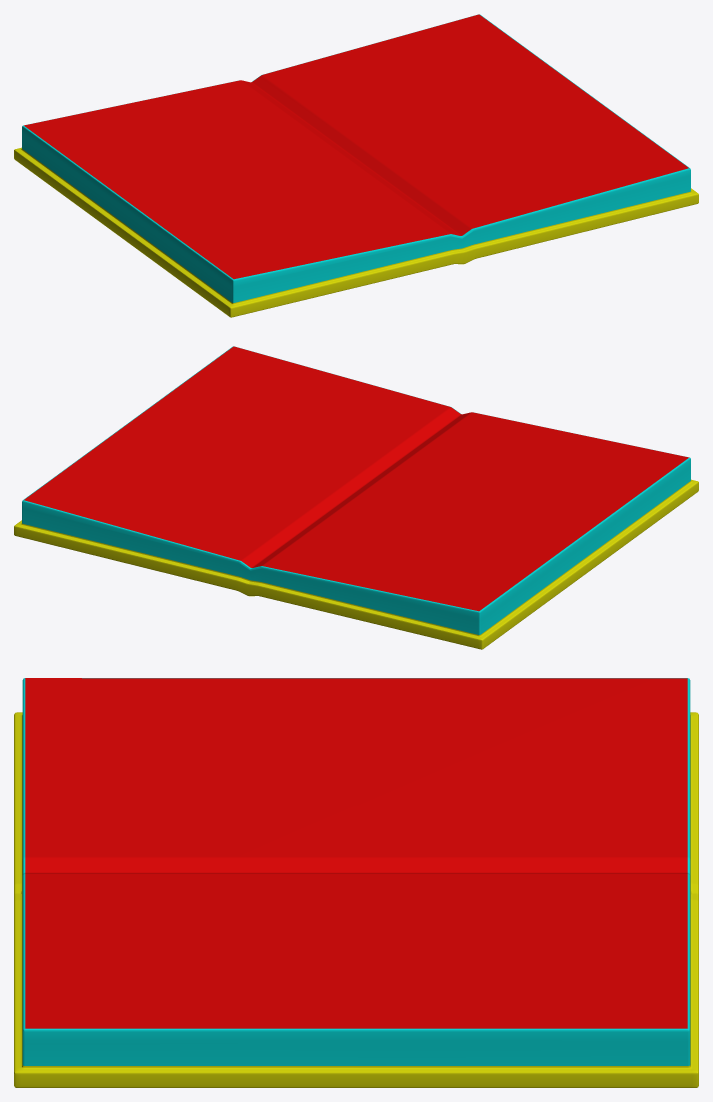
The model's file is OpenBook.fbx.
The picture shows the model from 3 angles, top to bottom: view 1: azimuth 30°, elevation 25°; view 2: azimuth 150°, elevation 25°; view 3: azimuth 270°, elevation 25°; orthographic projection. The views are drawn at different scales.
Parts seen in each view (by area): view 1: OpenBook; view 2: OpenBook; view 3: OpenBook.
Part boxes in pixels (<box>): OpenBook: <box>14,14,698,317</box>; OpenBook: <box>14,346,698,649</box>; OpenBook: <box>14,678,698,1087</box>.
Size of the model in its own units: 1.25 by 0.0988 by 1.
